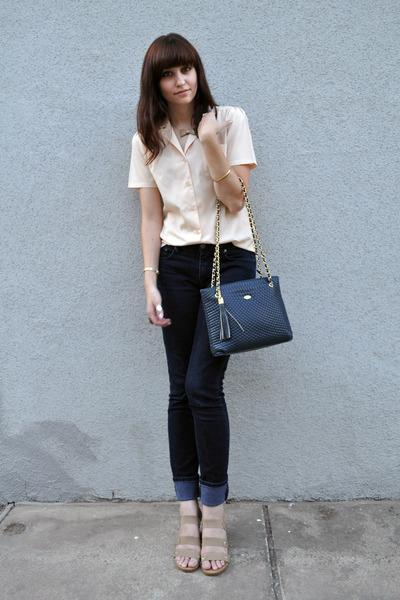bag: (197, 274, 292, 360)
pants: (156, 242, 260, 506)
shirt: (128, 106, 256, 251)
shoe: (173, 501, 234, 577)
